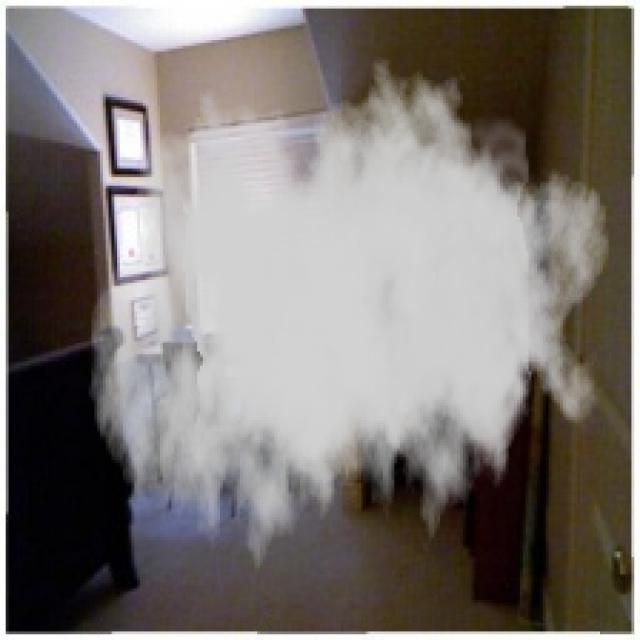Smoke: (89, 48, 612, 594)
